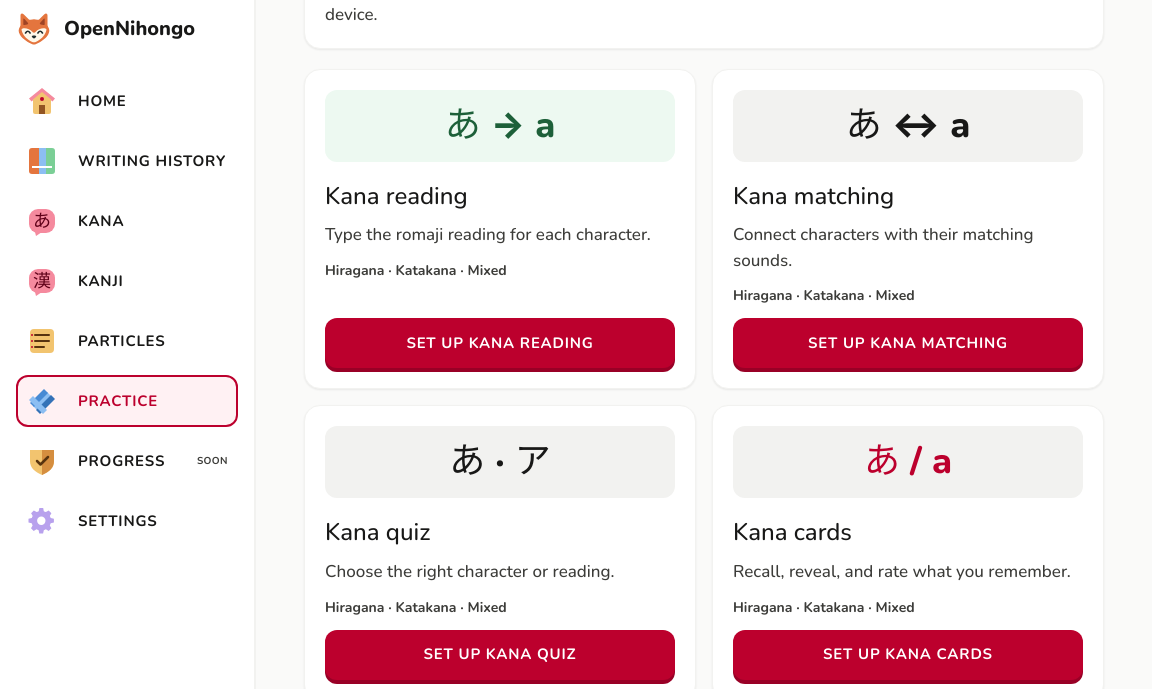
normalizes invalid options before opening setup
The image size is (1152, 689).
(page scrolled)
Step 1. Click the link "Set up Kana reading" → (500, 343), box top-left (325, 318), bottom-right (675, 368)
(page scrolled)
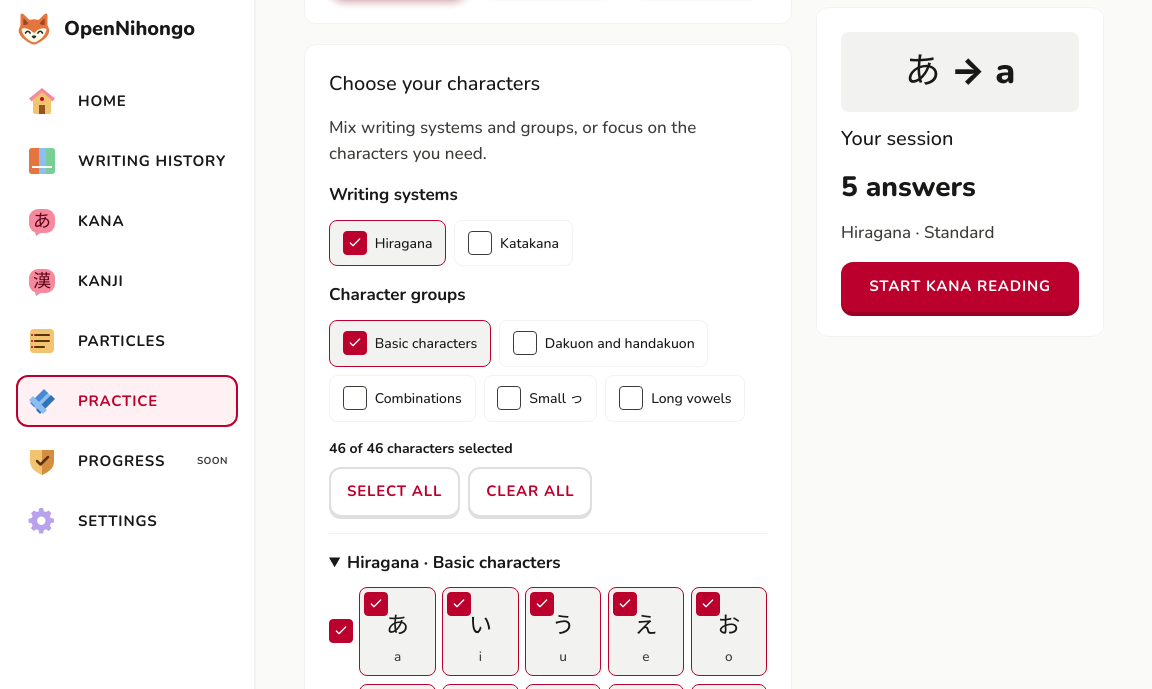
Now the checkbox labelled "Hiragana" is checked, box top-left (343, 231), bottom-right (367, 255)
Now the checkbox labelled "Basic characters" is checked, box top-left (343, 331), bottom-right (367, 355)
